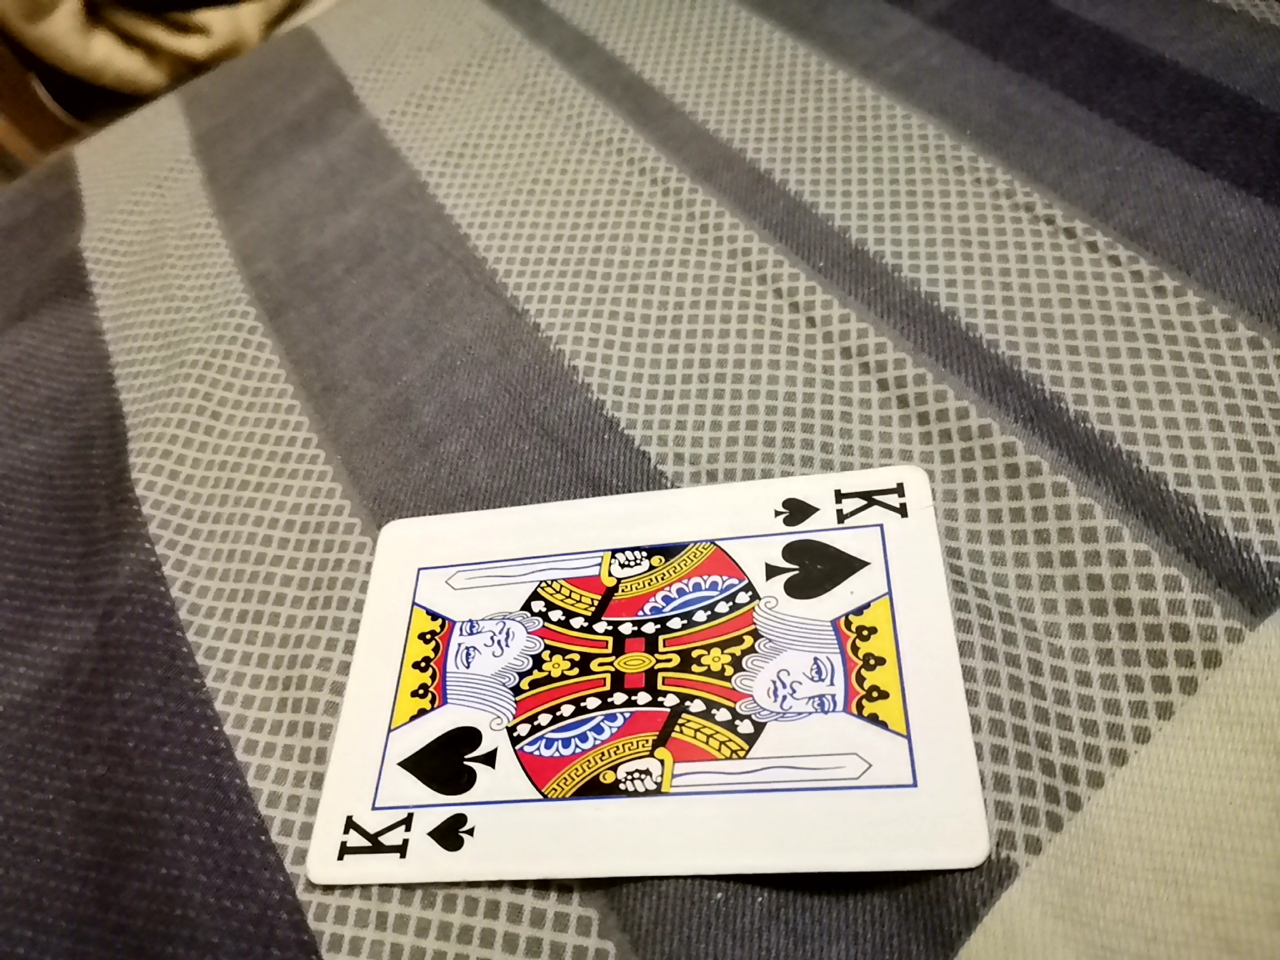ht k: (325, 431, 958, 898)
